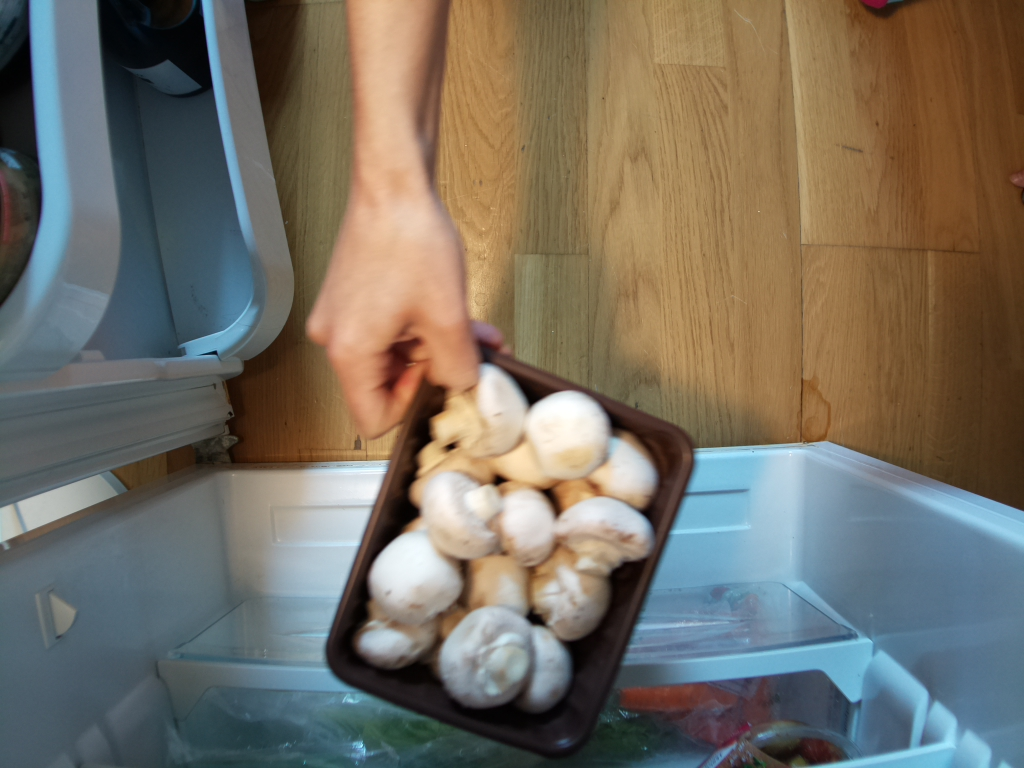mushrooms: (322, 337, 699, 753)
